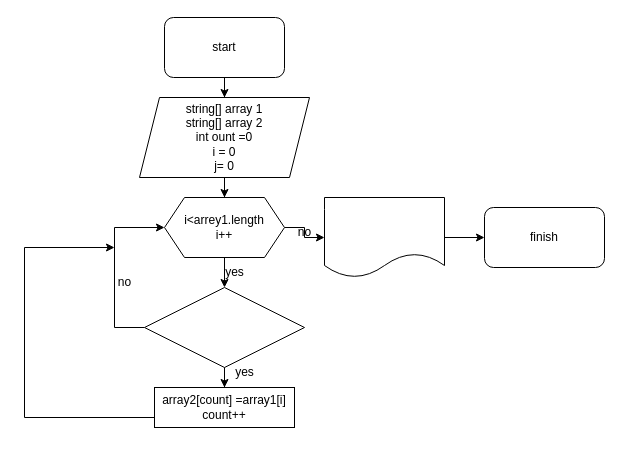
This 622x453 diagram has some shape labels left out. Here are the shapes that lost their labels. From the top down, the box of each, then its label:
(324, 196, 444, 278): print arrey2
(144, 286, 304, 368): arrey1[i].length<=3
